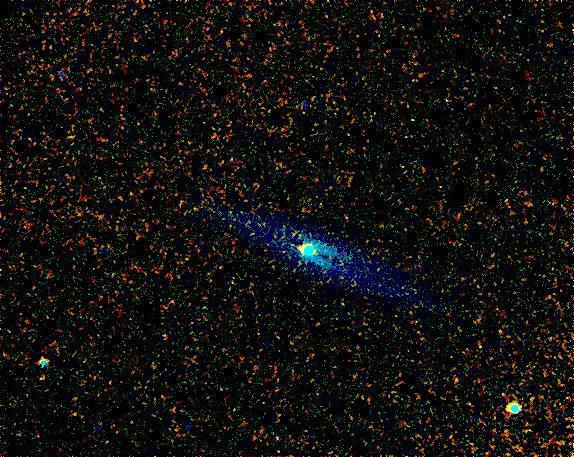star: (51, 356, 81, 386)
